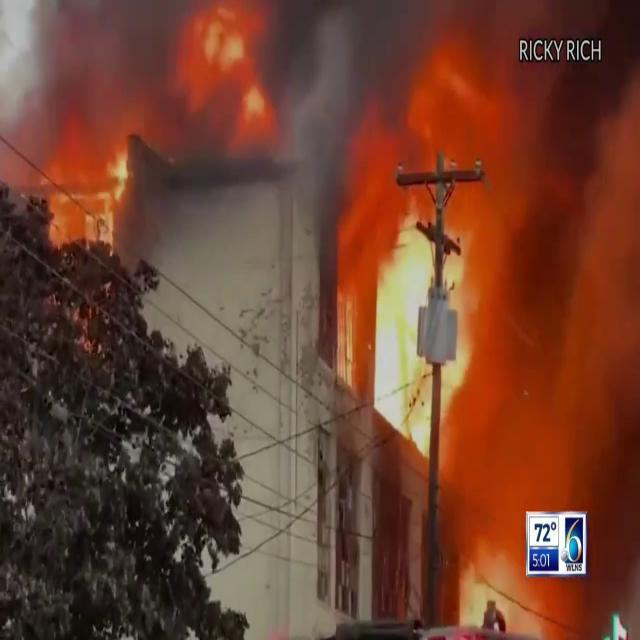Fire: (352, 168, 486, 462), (180, 2, 276, 140), (32, 130, 134, 252)
Smoke: (470, 6, 640, 494)
